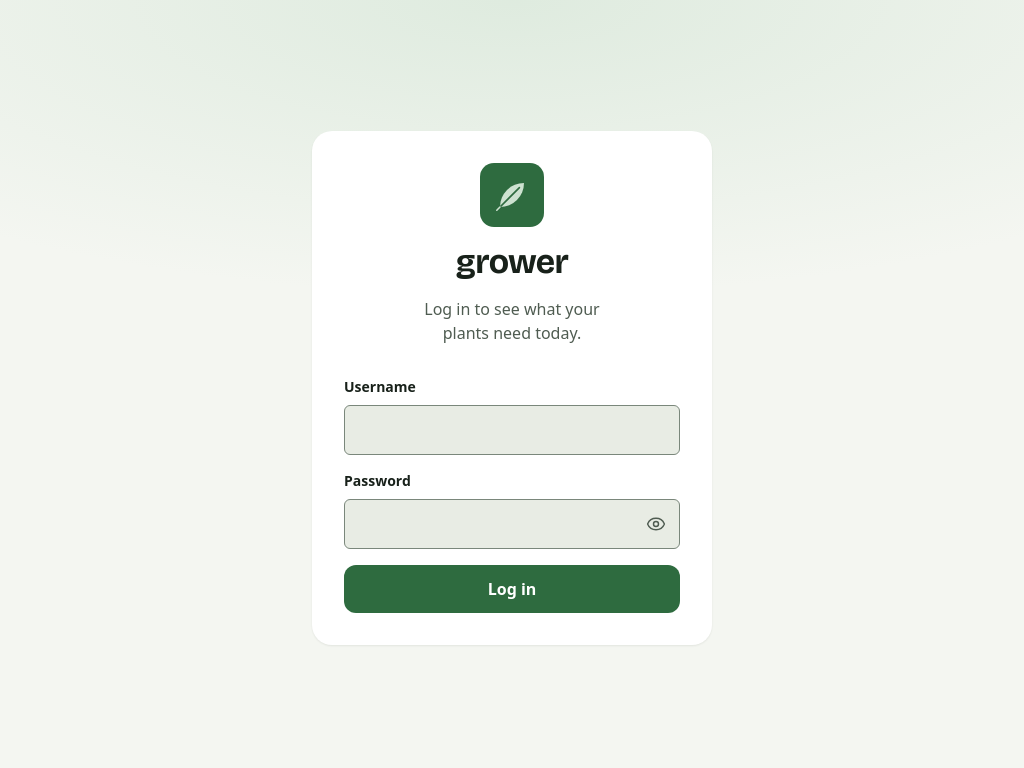
Test: Login › shows the mismatch message on 401
Type "fern" into the field labelled "Username" at [512, 430], box [344,405,680,455]
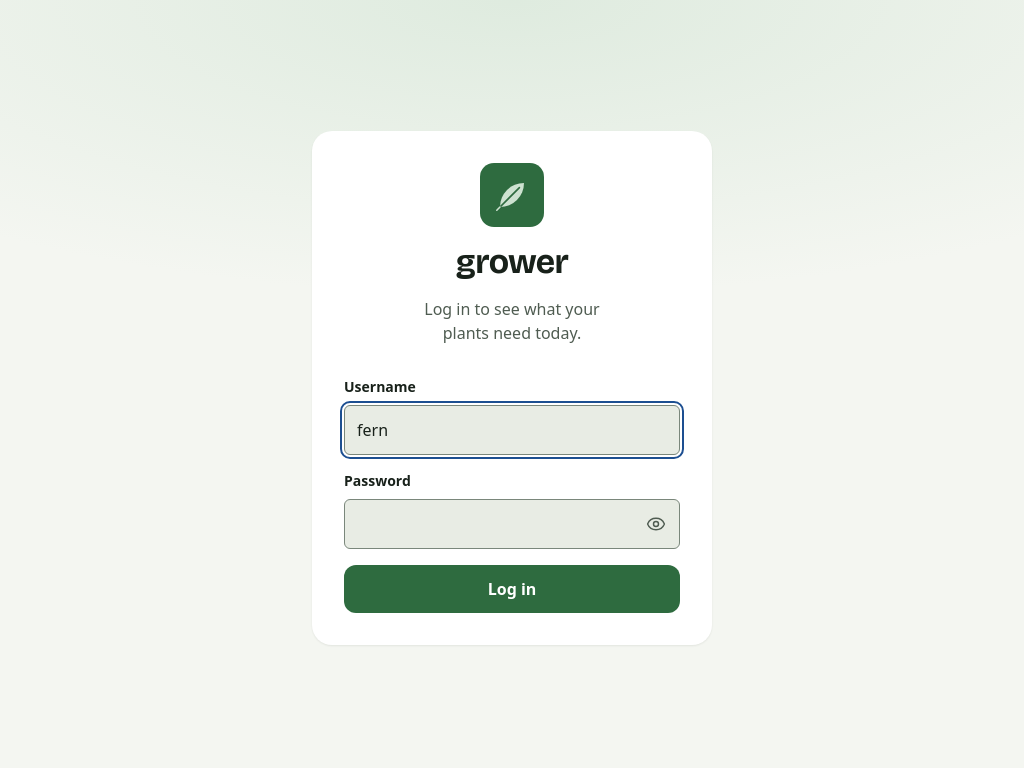
Type "wrong-password" into the password field labelled "Password" at [512, 524], box [344,499,680,549]
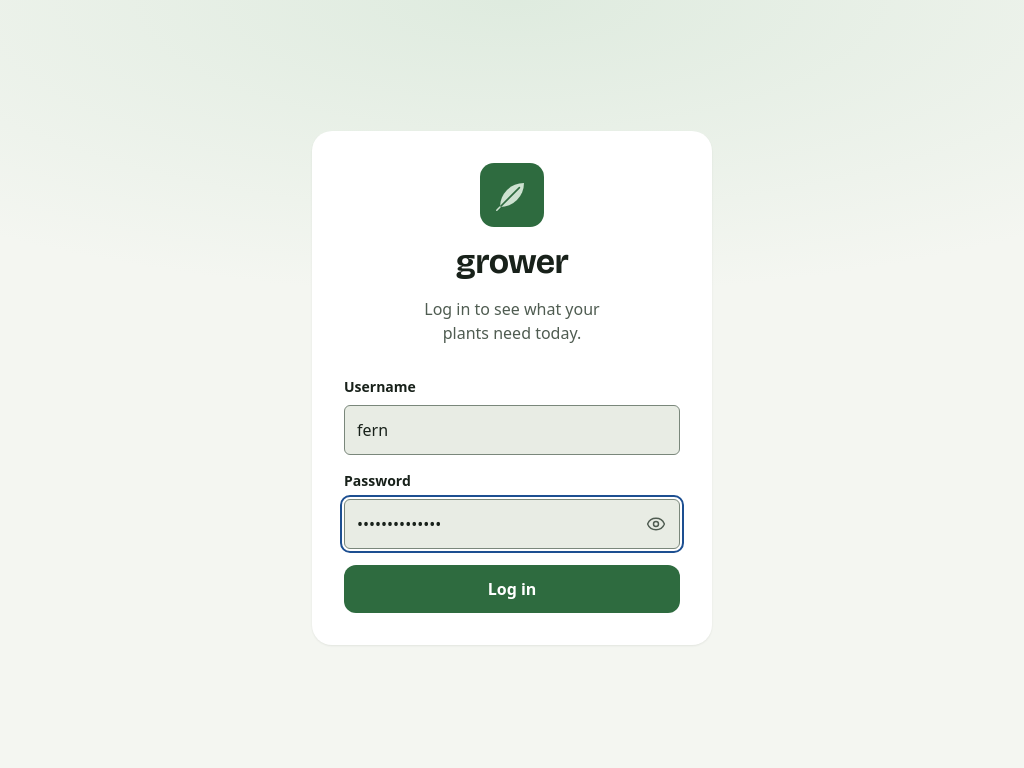
Click the button "Log in" at [512, 589], box [344,565,680,613]
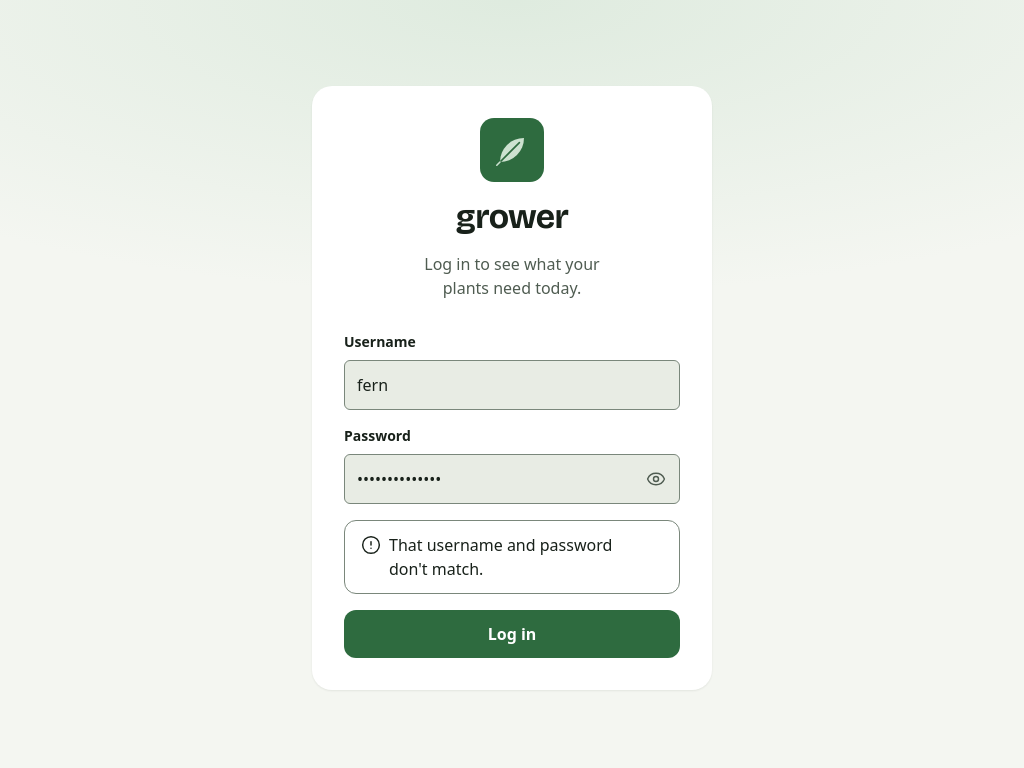
Check: the message reads "That username and password don't match.", box [389,534,612,580]
